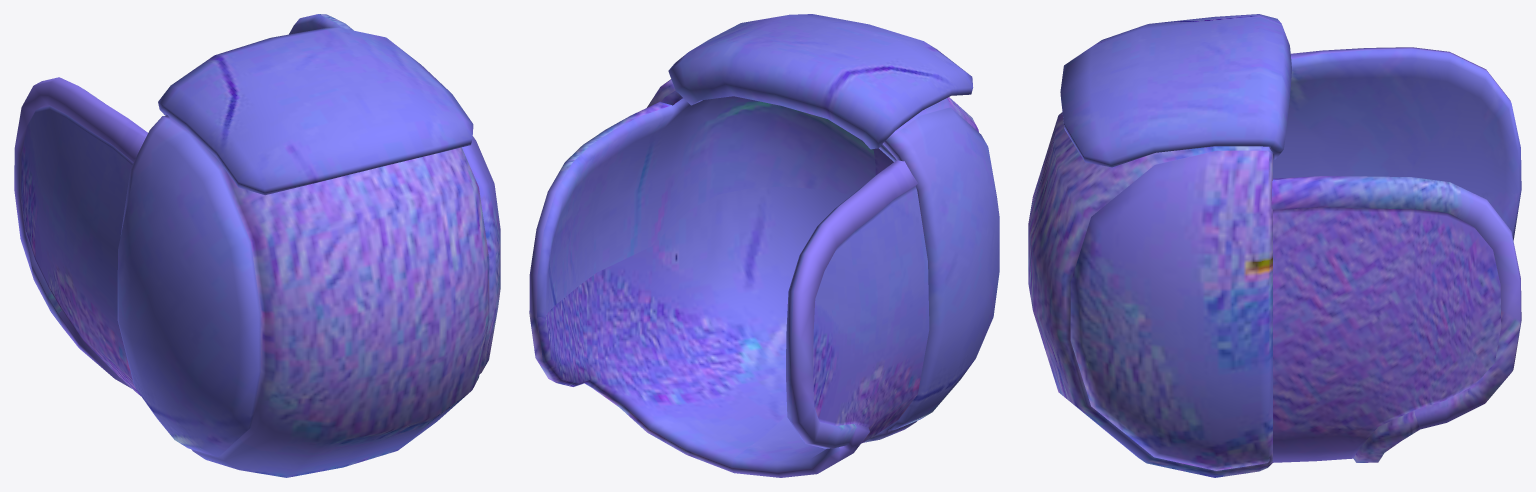
File: Headwear28.glb
3 renders of one model, left to right at view 1: azimuth 30°, elevation 25°; view 2: azimuth 150°, elevation 25°; view 3: azimuth 270°, elevation 25°, orthographic. The views are drawn at different scales.
Parts seen in each view (by area): view 1: Headwear28; view 2: Headwear28; view 3: Headwear28.
Part boxes in pixels (bbox=[...]): Headwear28: bbox=[14, 14, 500, 477]; Headwear28: bbox=[529, 14, 999, 477]; Headwear28: bbox=[1028, 14, 1521, 477].
Bounding box in the file's own units: 2.02 × 2.27 × 2.5.
1 material, 1 textured.
